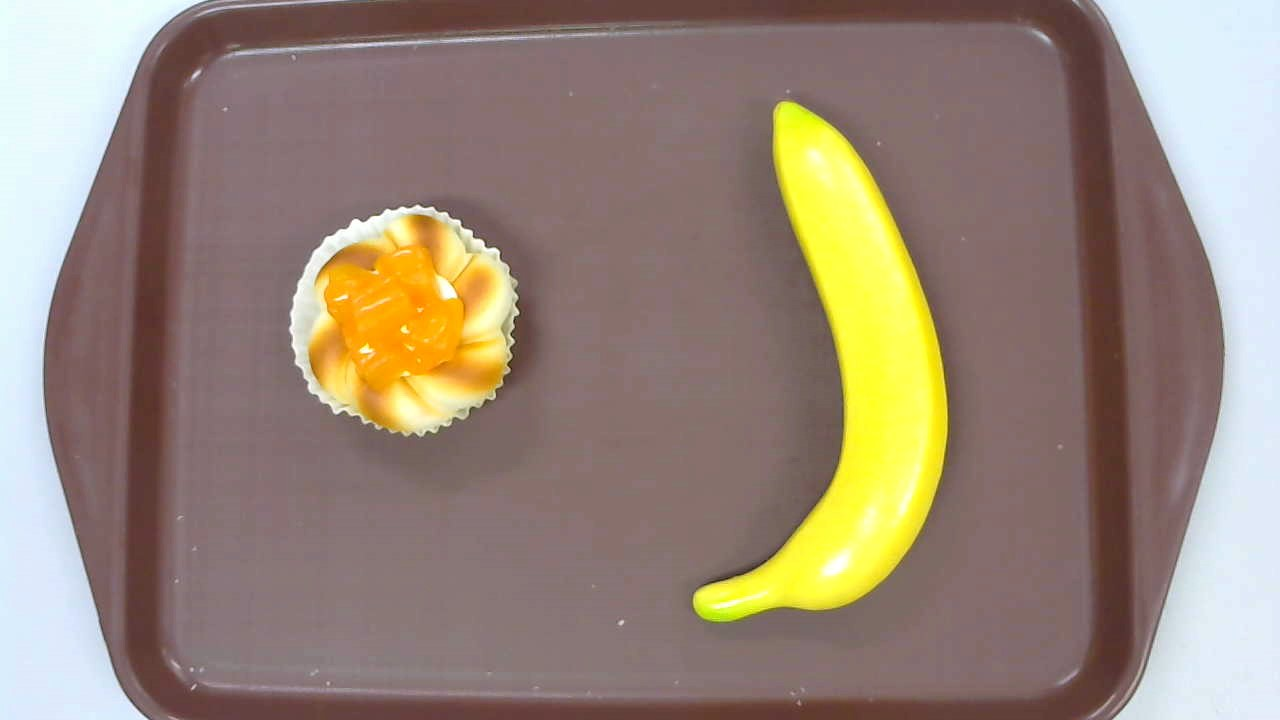banana: (692, 100, 949, 624)
mango tart: (289, 205, 522, 438)
